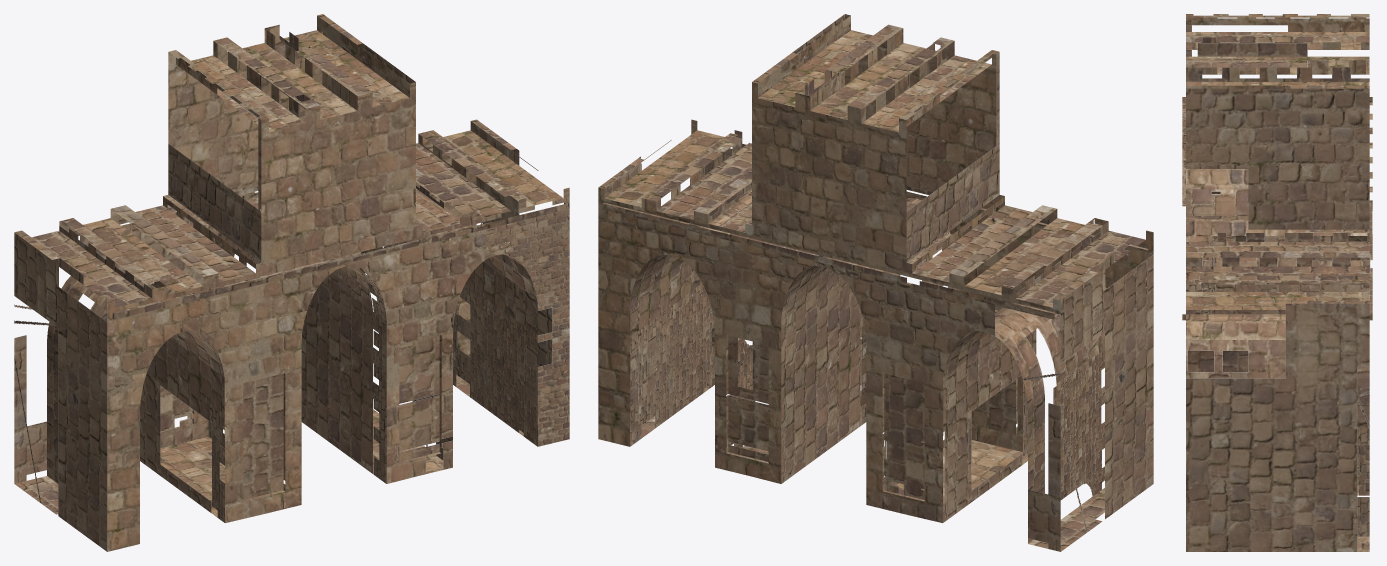
The model's file is ArchsTown.fbx.
3 renders of one model, left to right at view 1: azimuth 30°, elevation 25°; view 2: azimuth 150°, elevation 25°; view 3: azimuth 270°, elevation 25°, orthographic.
Parts seen in each view (by area): view 1: ArchsInTown; view 2: ArchsInTown; view 3: ArchsInTown.
Part boxes in pixels (x1,y1,x2,y2): ArchsInTown: [14, 14, 569, 551]; ArchsInTown: [598, 14, 1153, 551]; ArchsInTown: [1182, 14, 1372, 551].
Bounding box in the file's own units: 1428 × 1165 × 515.
